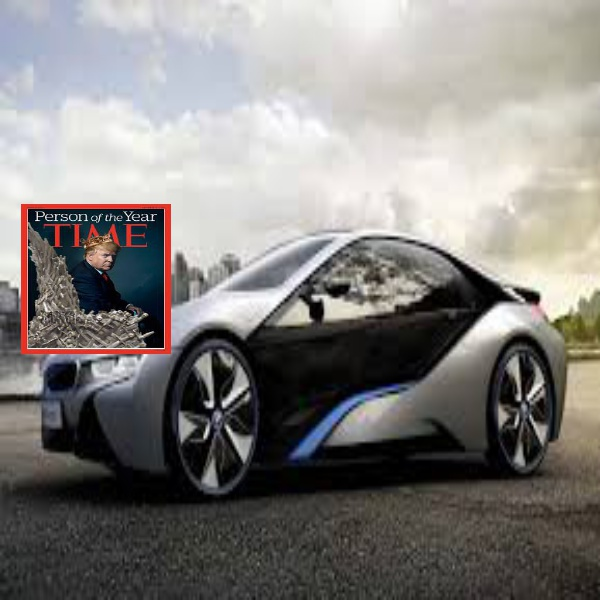time_cover: (12, 191, 172, 360)
